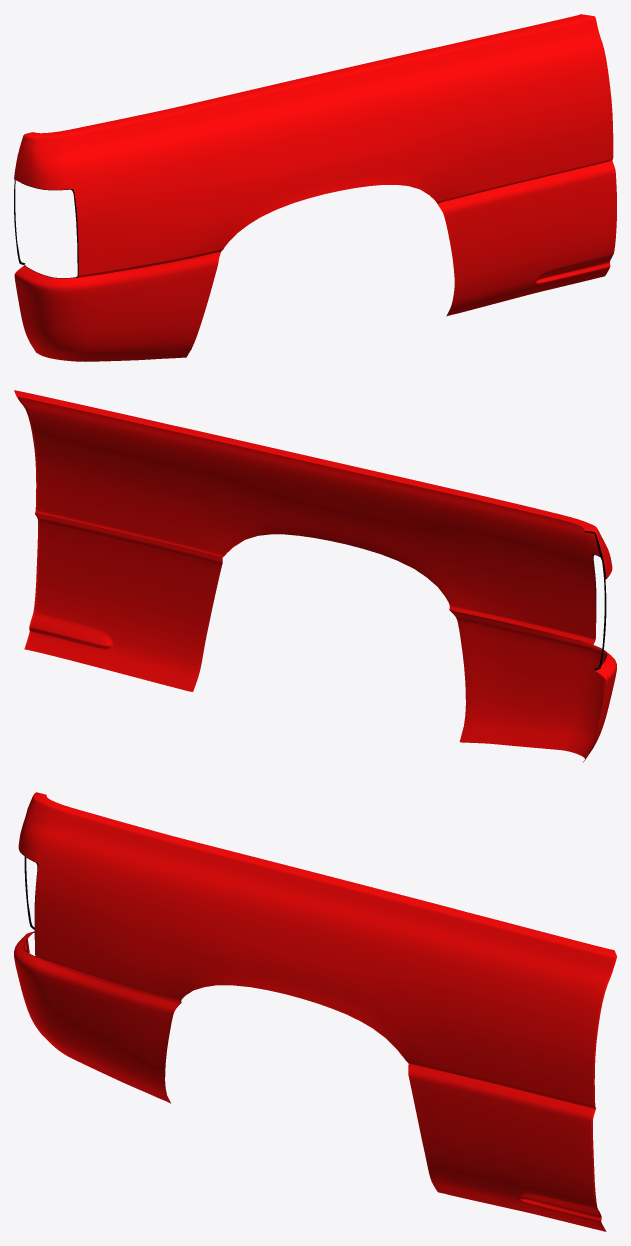
3 renders of one model, top to bottom at view 1: azimuth 30°, elevation 25°; view 2: azimuth 150°, elevation 25°; view 3: azimuth 330°, elevation 25°, orthographic. The views are drawn at different scales.
Parts seen in each view (by area): view 1: U805_4A_38AL_R_1_DaS_U805_4A_38AL_R, U805_4A_38AL_R_1_DaS_U805_4A_38AL_R_E; view 2: U805_4A_38AL_R_1_DaS_U805_4A_38AL_R, U805_4A_38AL_R_1_DaS_U805_4A_38AL_R_E, U805_4A_38AL_R_U805_4A_38AL_R_2_D; view 3: U805_4A_38AL_R_1_DaS_U805_4A_38AL_R, U805_4A_38AL_R_1_DaS_U805_4A_38AL_R_E.
Boxes of the visible parts, x1=… form: U805_4A_38AL_R_1_DaS_U805_4A_38AL_R: x1=14, y1=18, x2=615, y2=361; U805_4A_38AL_R_1_DaS_U805_4A_38AL_R_E: x1=24, y1=14, x2=616, y2=278; U805_4A_38AL_R_1_DaS_U805_4A_38AL_R: x1=19, y1=397, x2=616, y2=762; U805_4A_38AL_R_1_DaS_U805_4A_38AL_R_E: x1=14, y1=390, x2=607, y2=695; U805_4A_38AL_R_U805_4A_38AL_R_2_D: x1=584, y1=530, x2=607, y2=670; U805_4A_38AL_R_1_DaS_U805_4A_38AL_R: x1=14, y1=796, x2=614, y2=1231; U805_4A_38AL_R_1_DaS_U805_4A_38AL_R_E: x1=23, y1=792, x2=616, y2=1231.
Size of the model in its own units: 189 by 83.72 by 19.89.
